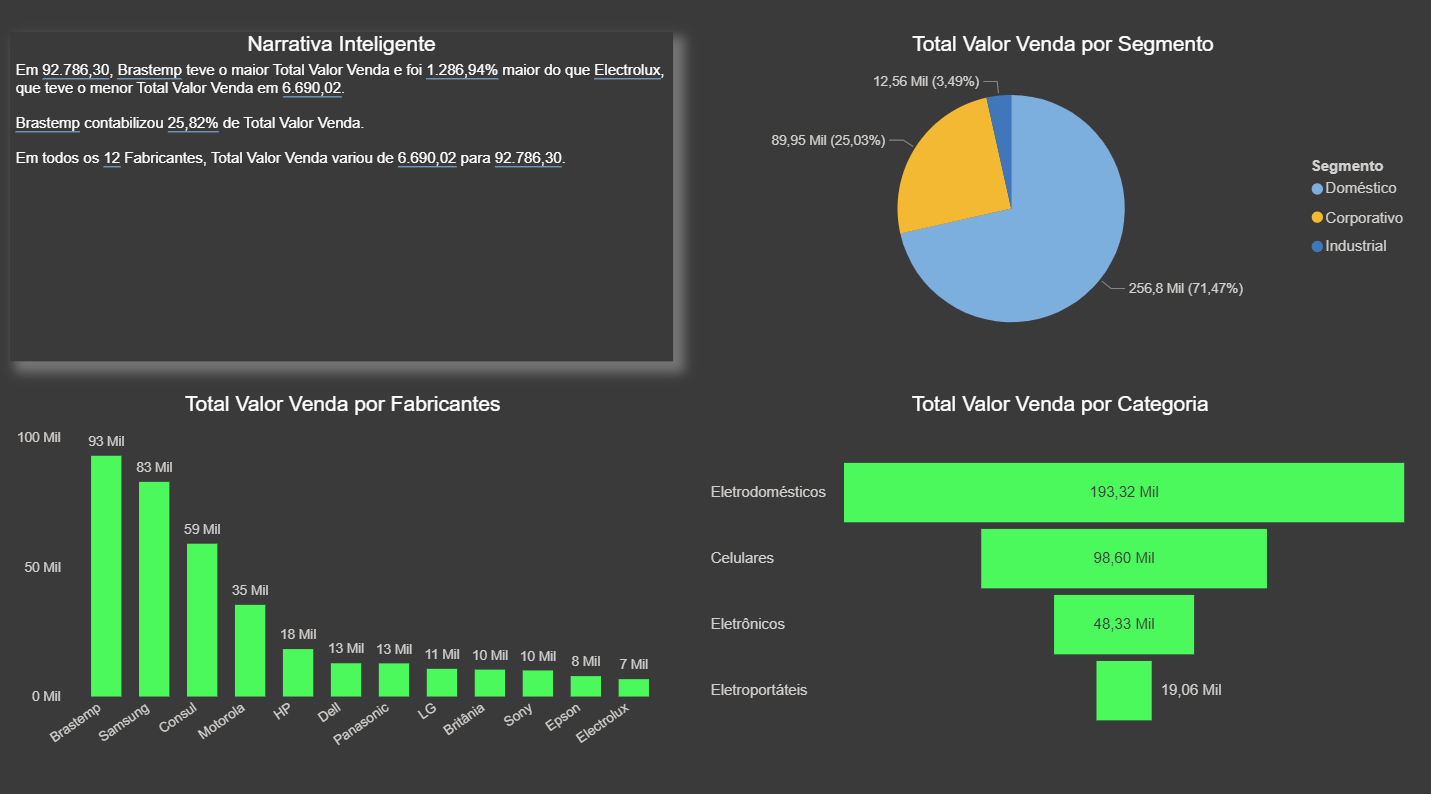

What the dashboard file says about the page in this screenshot:
{"tool":"powerbi","page":{"name":"Narrativa Inteligente","canvas":[1280,720],"ordinal":1},"visuals":[{"type":"funnel","fields":{"Y":["Sum(Vendas.ValorVenda)"],"Category":["Vendas.Categoria"]},"box":[631.4,354.5,630,332.2],"z":0},{"type":"pieChart","fields":{"Y":["Sum(Vendas.ValorVenda)"],"Category":["Vendas.Segmento"]},"box":[632,35.4,633.2,292.2],"z":1000},{"type":"clusteredColumnChart","fields":{"Y":["Sum(Vendas.ValorVenda)"],"Category":["Vendas.Fabricante"]},"box":[15.8,354.5,588.5,335],"z":2000},{"type":"textbox","title":"Narrativa Inteligente","box":[15.4,35.1,588,292],"z":3000}]}

Visuals, with their boxes in screenshot pixels (x1, y1, x2, y2), scaled from the page's 1280x720 canvas onto the 1431x794 screenshot:
funnel - Sum(Vendas.ValorVenda) x Vendas.Categoria: <box>706,391,1410,757</box>
pieChart - Sum(Vendas.ValorVenda) x Vendas.Segmento: <box>707,39,1414,361</box>
clusteredColumnChart - Sum(Vendas.ValorVenda) x Vendas.Fabricante: <box>18,391,676,760</box>
"Narrativa Inteligente" textbox: <box>17,39,675,361</box>
